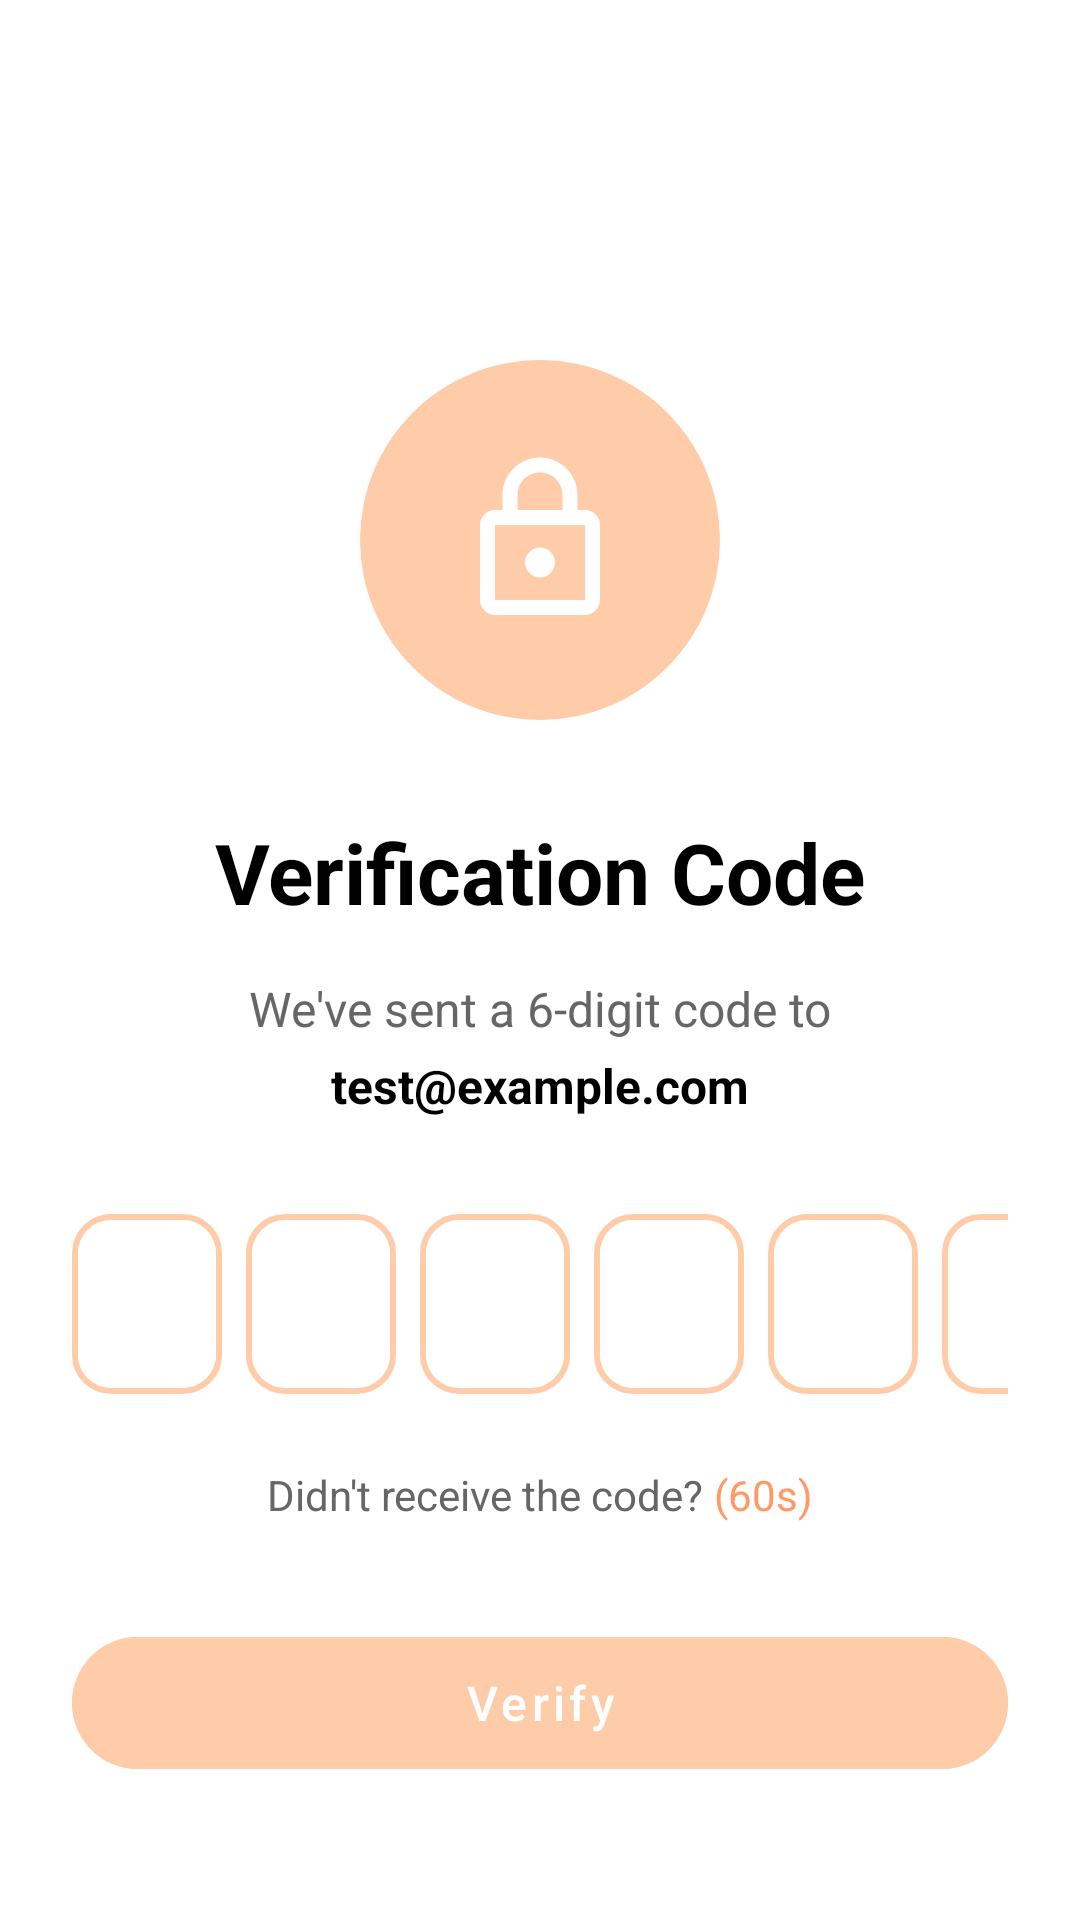

Named icons in this screenshot (1080 x 1920) and their bounding boxes, (x1, y1, x2, y2):
Security: (480, 457, 600, 615)
